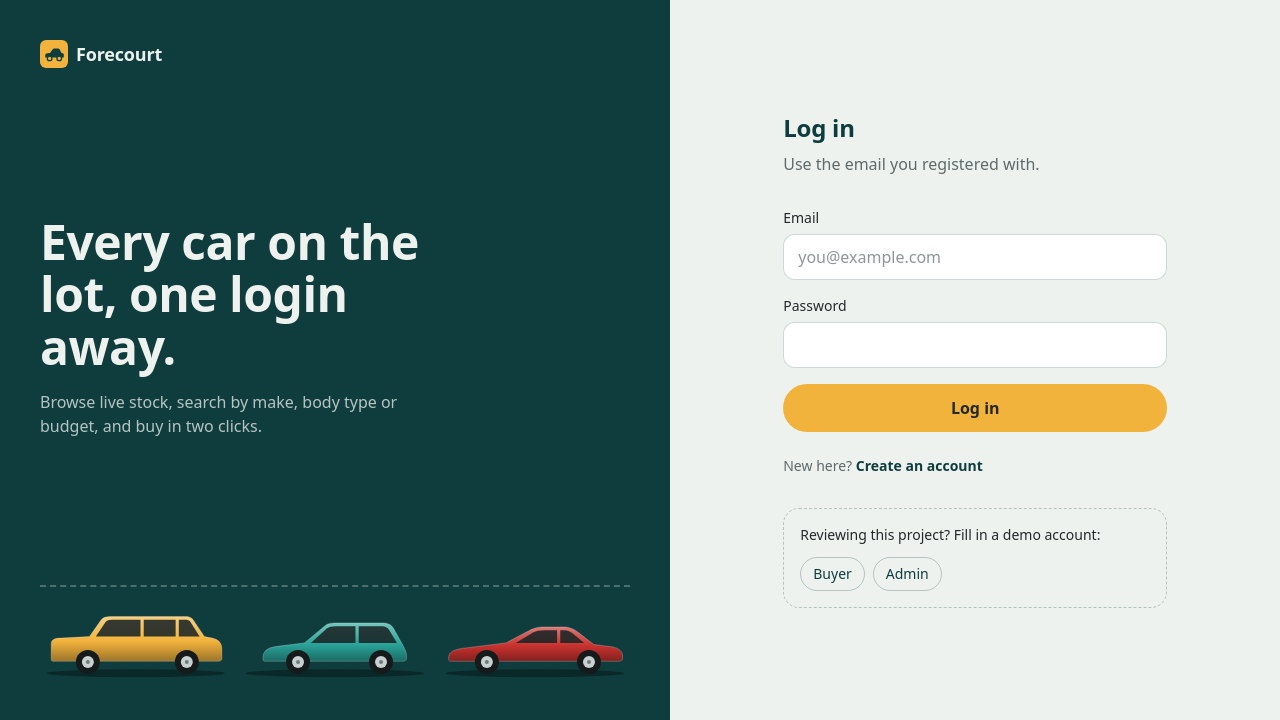
Test: LoginPage › demo buttons fill the form
Step 1. Click the button "Admin" → click(907, 574), box x1=873 y1=557 x2=942 y2=591
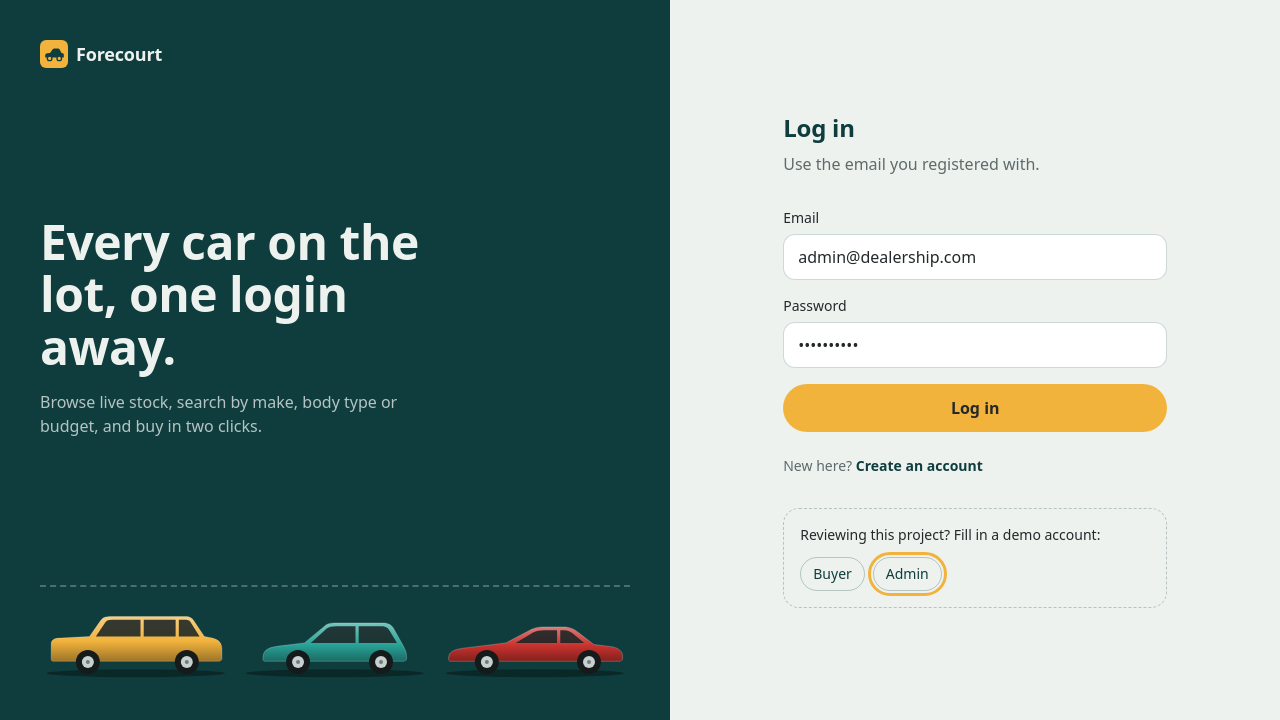
Check: the field labelled "Email" holds "admin@dealership.com", box x1=783 y1=234 x2=1167 y2=280
